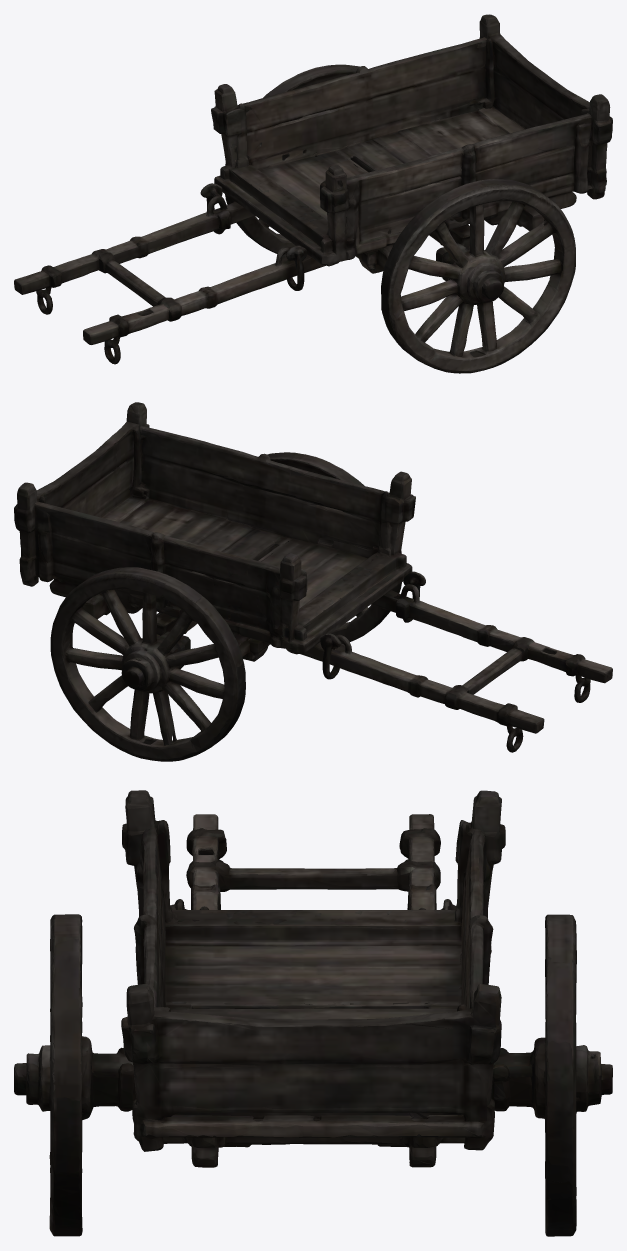
Rendered from war_cart_gutted_01.glb.
3 views of the same model, one above another, from view 1: azimuth 30°, elevation 25°; view 2: azimuth 150°, elevation 25°; view 3: azimuth 270°, elevation 25° (orthographic). The views are drawn at different scales.
Parts seen in each view (by area): view 1: geometry_0; view 2: geometry_0; view 3: geometry_0.
Boxes of the visible parts, left/top/right/bottom form: geometry_0: left=14, top=14, right=612, bottom=373; geometry_0: left=14, top=402, right=612, bottom=761; geometry_0: left=14, top=790, right=612, bottom=1236.
Bounding box in the file's own units: 1 × 0.4156 × 0.6525.
Materials: 1 (1 with a texture image).
